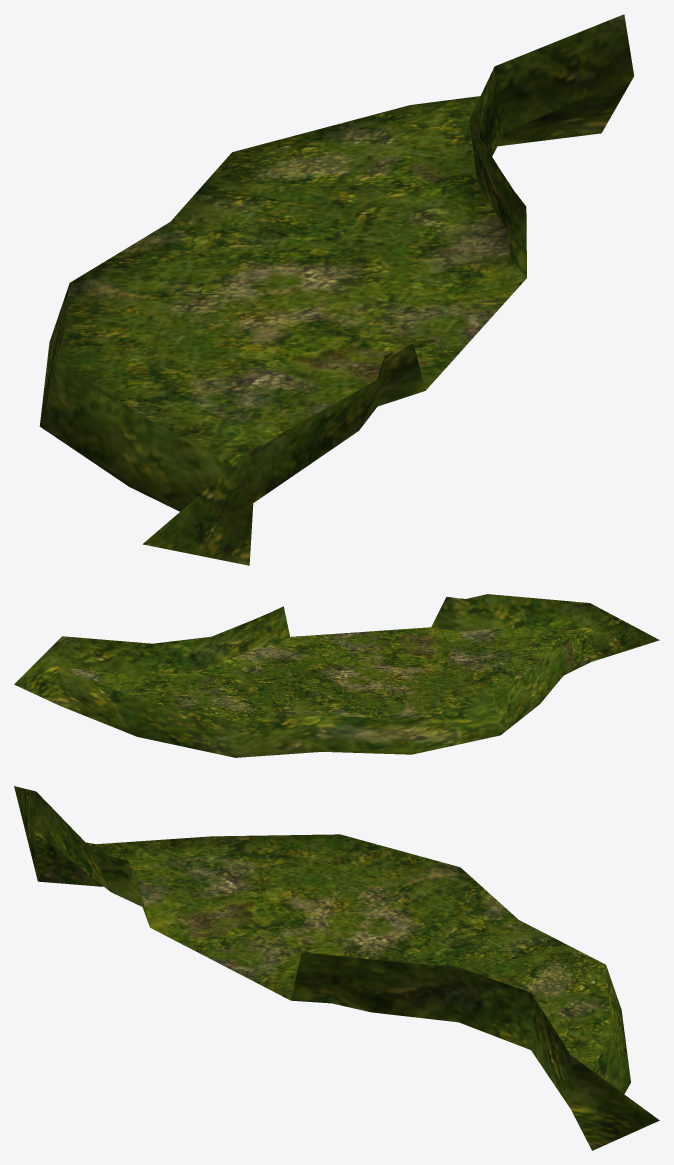
Rendered from OVERHILL_A_01_LINE107.fbx.
The picture shows the model from 3 angles, top to bottom: view 1: azimuth 30°, elevation 25°; view 2: azimuth 150°, elevation 25°; view 3: azimuth 270°, elevation 25°; orthographic projection. The views are drawn at different scales.
Parts seen in each view (by area): view 1: OVERHILL_A_01_LINE107; view 2: OVERHILL_A_01_LINE107; view 3: OVERHILL_A_01_LINE107.
Boxes of the visible parts, box(x1,y1,x2,y2) form: OVERHILL_A_01_LINE107: box(39, 14, 633, 565); OVERHILL_A_01_LINE107: box(14, 594, 659, 757); OVERHILL_A_01_LINE107: box(14, 786, 659, 1150).
Size of the model in its own units: 69954 by 9995 by 57096.
2 materials, 2 textured.
